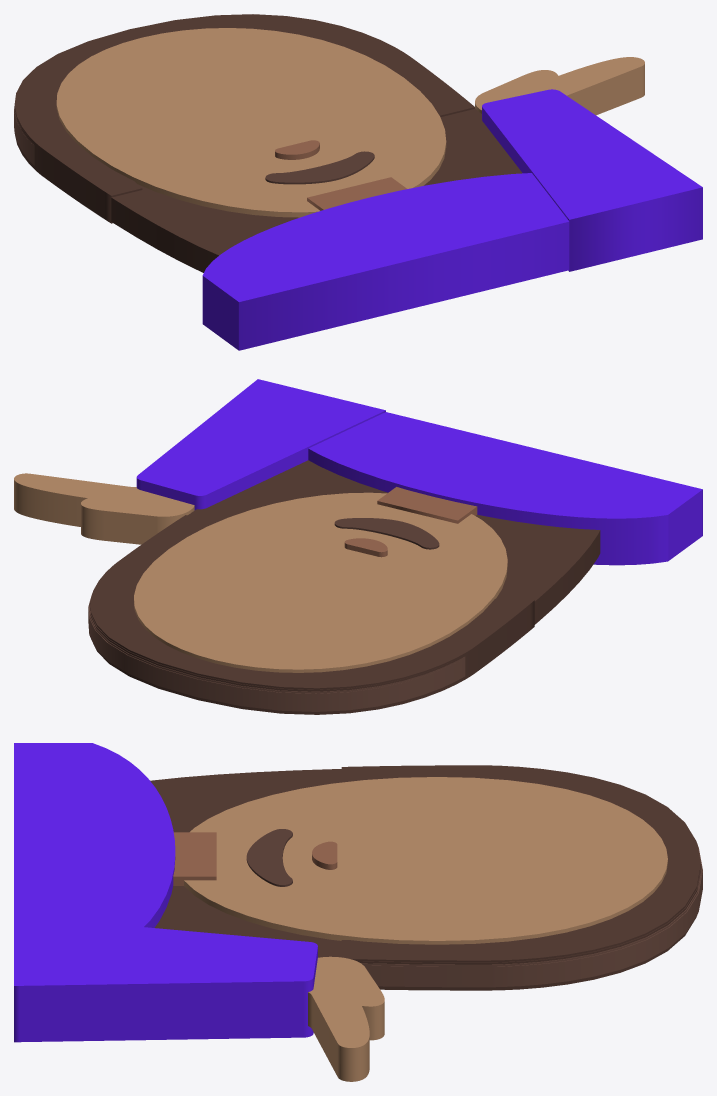
The model's file is emoji_u1f481_1f3fd_200d_2640.glb.
3 renders of one model, top to bottom at view 1: azimuth 30°, elevation 25°; view 2: azimuth 150°, elevation 25°; view 3: azimuth 270°, elevation 25°, orthographic. The views are drawn at different scales.
Parts seen in each view (by area): view 1: emoji_u1f481_1f3fd_200d_2640; view 2: emoji_u1f481_1f3fd_200d_2640; view 3: emoji_u1f481_1f3fd_200d_2640.
Part boxes in pixels (x1,y1,x2,y2): emoji_u1f481_1f3fd_200d_2640: (14,14,702,350); emoji_u1f481_1f3fd_200d_2640: (14,379,702,714); emoji_u1f481_1f3fd_200d_2640: (14,743,702,1081).
Bounding box in the file's own units: 0.0338 × 0.003 × 0.0333.
